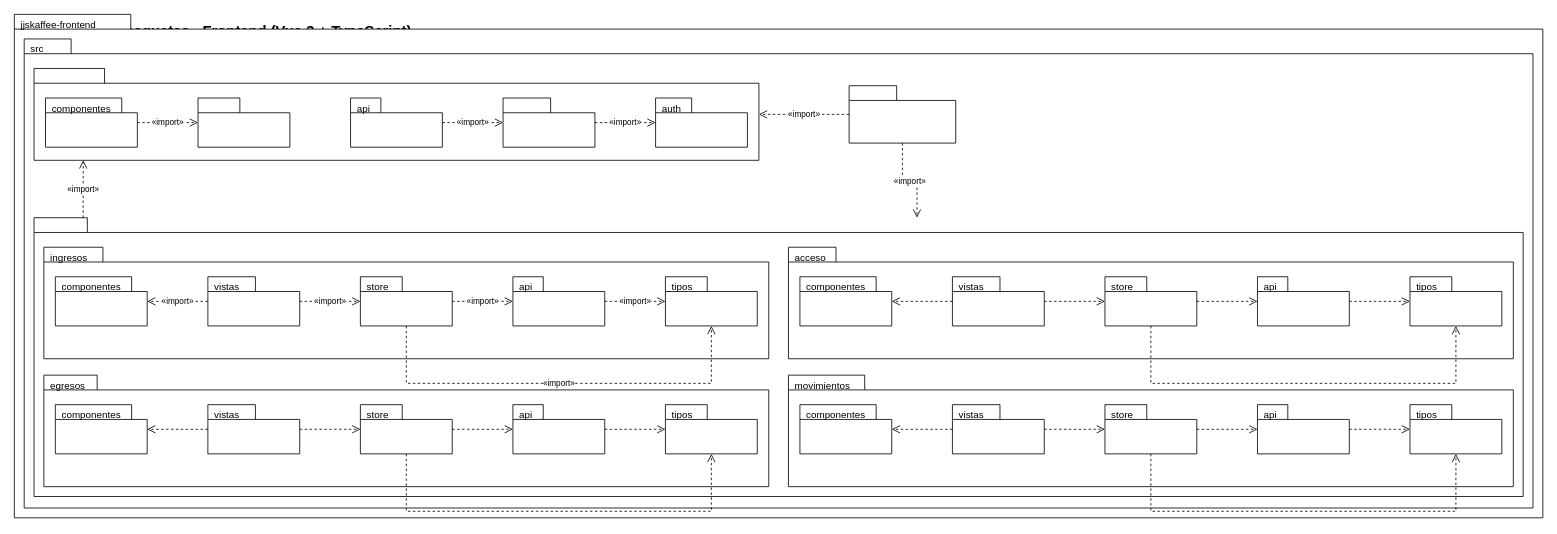
Some shapes in this 1557 by 534 pixel diagram are drawn without their labels. Here are the shapes that lost their labels. From the top down, the box of each, then its label:
(197, 97, 290, 147): utils
(33, 68, 759, 160): compartido
(502, 97, 595, 147): sesion
(848, 85, 956, 143): router
(33, 217, 1523, 497): modulos
